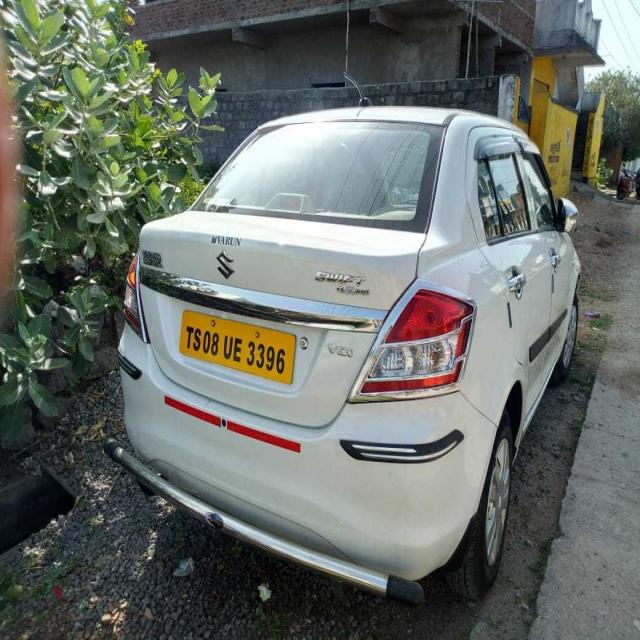Number-Plate: (182, 312, 290, 386)
